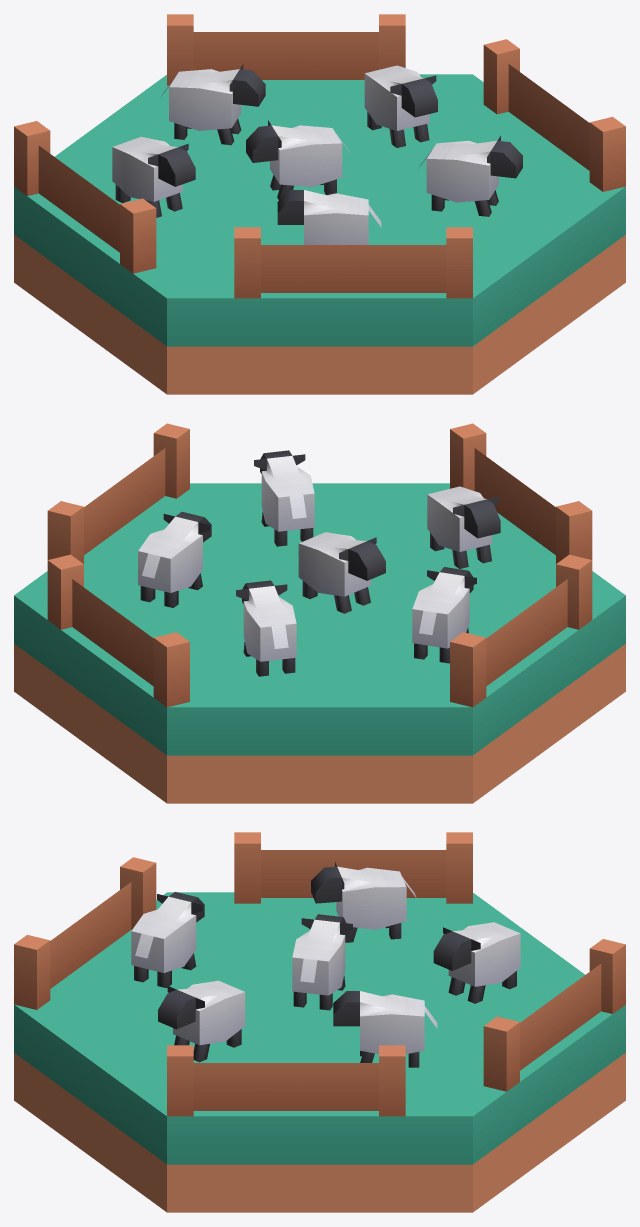
Rendered from building-sheep.fbx.
3 views of the same model, one above another, from view 1: azimuth 30°, elevation 25°; view 2: azimuth 150°, elevation 25°; view 3: azimuth 270°, elevation 25° (orthographic).
Parts seen in each view (by area): view 1: building_sheep; view 2: building_sheep; view 3: building_sheep.
Part boxes in pixels (bbox=[...]): building_sheep: bbox=[14, 14, 625, 394]; building_sheep: bbox=[14, 423, 625, 803]; building_sheep: bbox=[14, 832, 625, 1212].
Size of the model in its own units: 100 by 33.15 by 115.
Materials: 1 (1 with a texture image).
